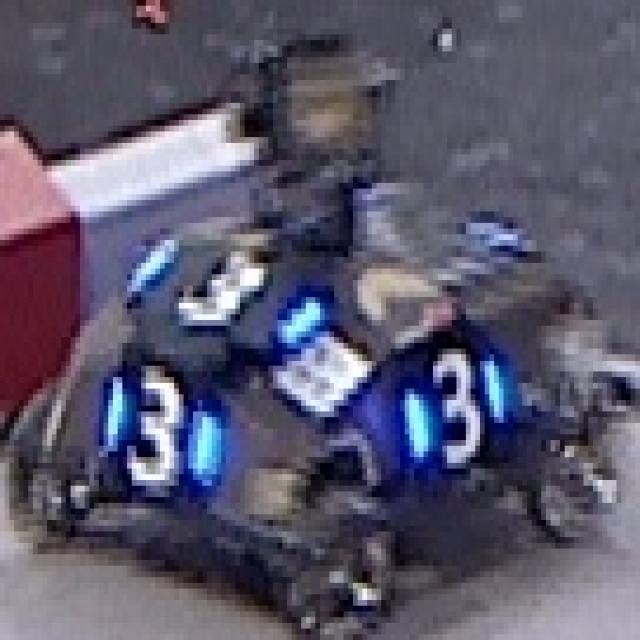B3: (94, 360, 217, 497), (396, 343, 508, 468)
